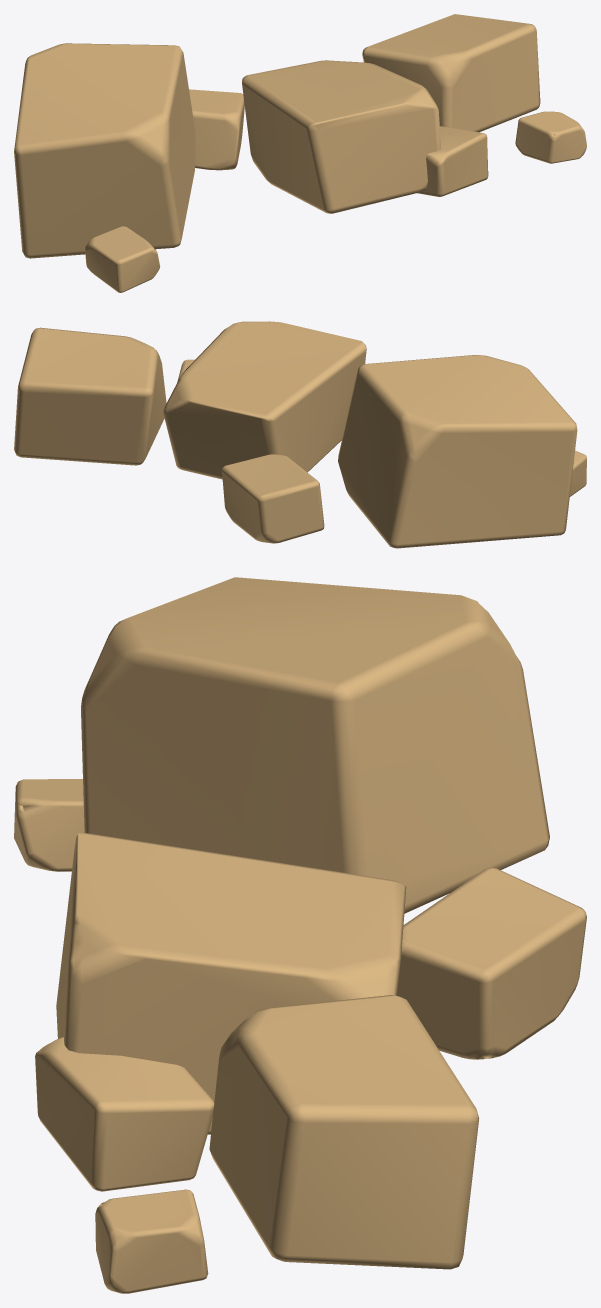
The model's file is P_RubbleB.fbx.
3 views of the same model, one above another, from view 1: azimuth 30°, elevation 25°; view 2: azimuth 150°, elevation 25°; view 3: azimuth 270°, elevation 25° (orthographic). The views are drawn at different scales.
Parts seen in each view (by area): view 1: P_RubbleB; view 2: P_RubbleB; view 3: P_RubbleB.
Boxes of the visible parts, x1,y1,x2,y2 form: P_RubbleB: [14, 14, 586, 292]; P_RubbleB: [14, 321, 586, 548]; P_RubbleB: [14, 577, 586, 1293].
Bounding box in the file's own units: 0.7863 × 0.2128 × 0.3811.
